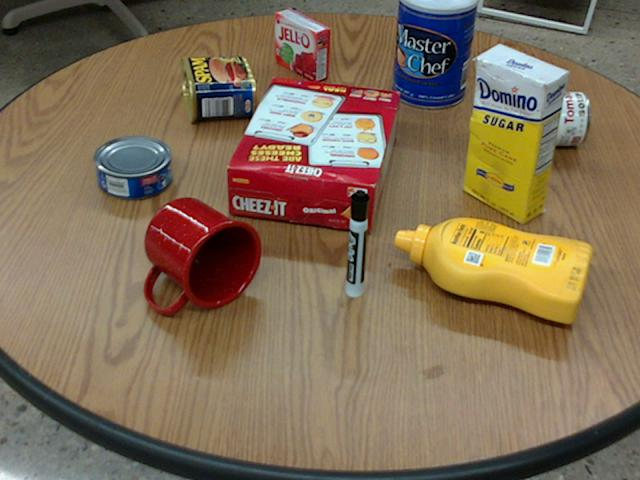cracker_box: (225, 78, 398, 232)
gelatin_box: (275, 8, 329, 81)
large_marker: (345, 189, 368, 297)
master_chef_can: (392, 0, 478, 107)
mug: (141, 198, 259, 311)
mustard_bottle: (394, 217, 590, 322)
potted_meat_can: (181, 56, 254, 121)
sugar_box: (465, 44, 566, 223)
tomato_soup_can: (493, 90, 588, 144)
tuna_fish_can: (93, 135, 170, 198)
